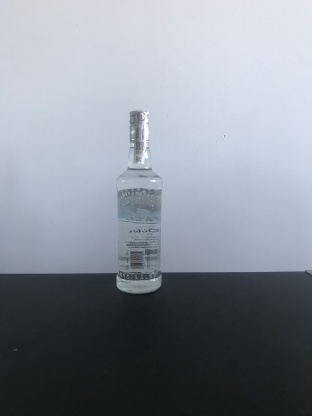nakretka: (126, 106, 152, 145)
